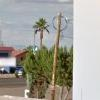Palm tree: (27, 12, 50, 51)
